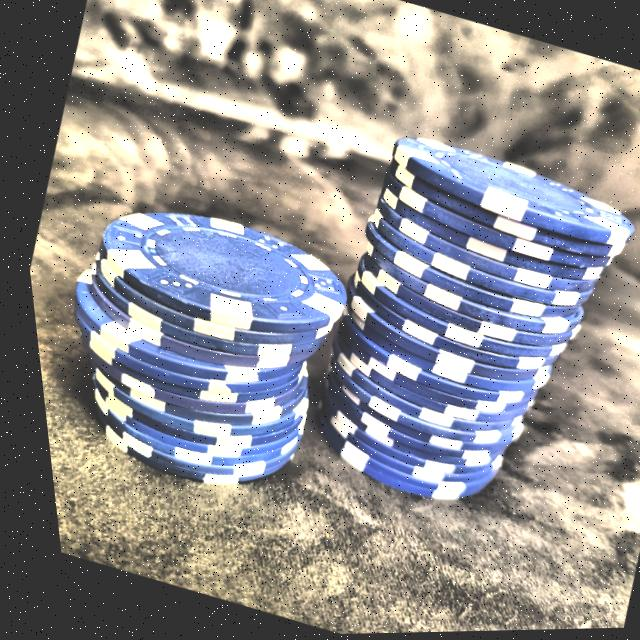Chip: (239, 82, 640, 566), (14, 157, 396, 521)
